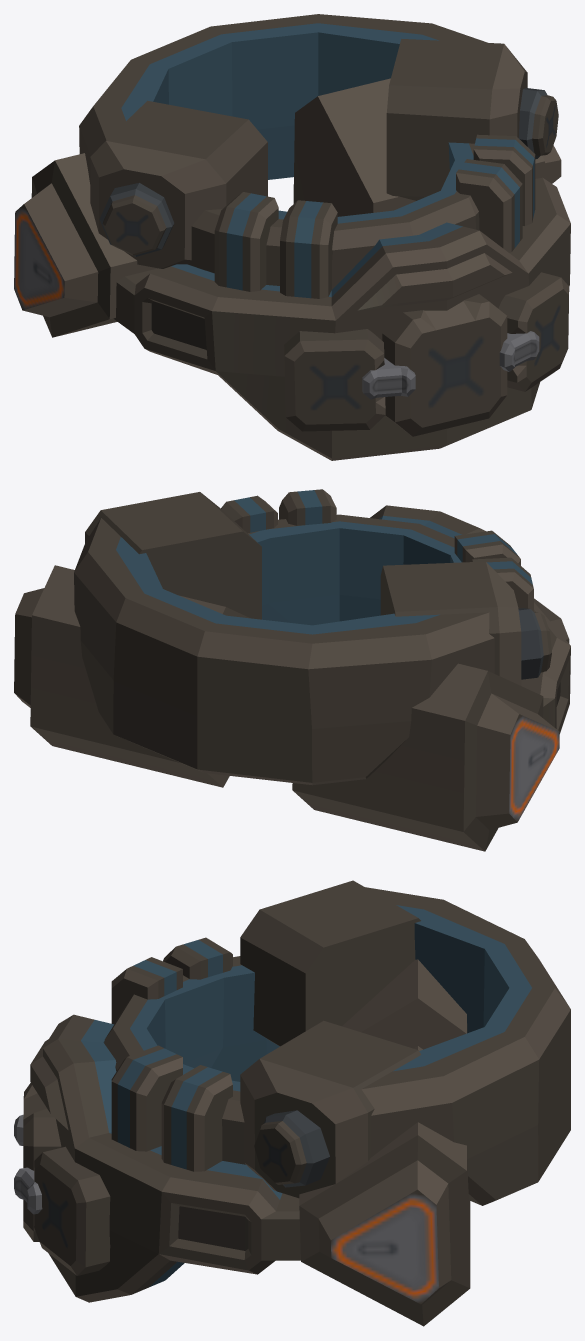
Rendered from SM_Mech_Hips_01_Armor_Belt_04.fbx.
The picture shows the model from 3 angles, top to bottom: view 1: azimuth 30°, elevation 25°; view 2: azimuth 150°, elevation 25°; view 3: azimuth 270°, elevation 25°; orthographic projection. The views are drawn at different scales.
Visible parts, largest first — view 1: SM_Mech_Hips_01_Armor_Belt_04; view 2: SM_Mech_Hips_01_Armor_Belt_04; view 3: SM_Mech_Hips_01_Armor_Belt_04.
Part boxes in pixels (x1=…): SM_Mech_Hips_01_Armor_Belt_04: x1=14, y1=14, x2=570, y2=460; SM_Mech_Hips_01_Armor_Belt_04: x1=14, y1=489, x2=570, y2=851; SM_Mech_Hips_01_Armor_Belt_04: x1=14, y1=880, x2=570, y2=1326.
Size of the model in its own units: 109 by 53.27 by 99.07.
